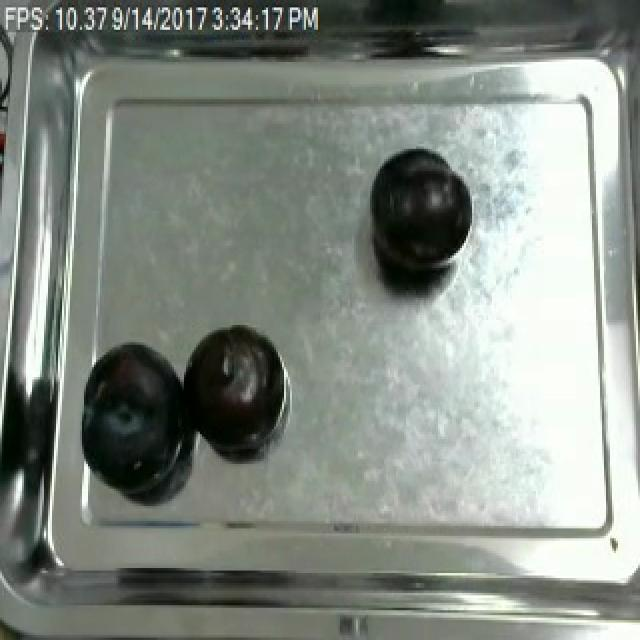Fruit: (364, 149, 474, 283), (176, 320, 278, 456)
